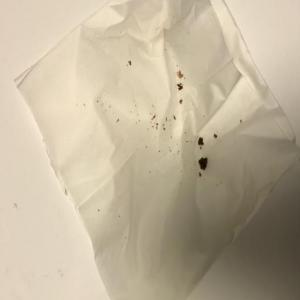Trash: (12, 2, 300, 300)
